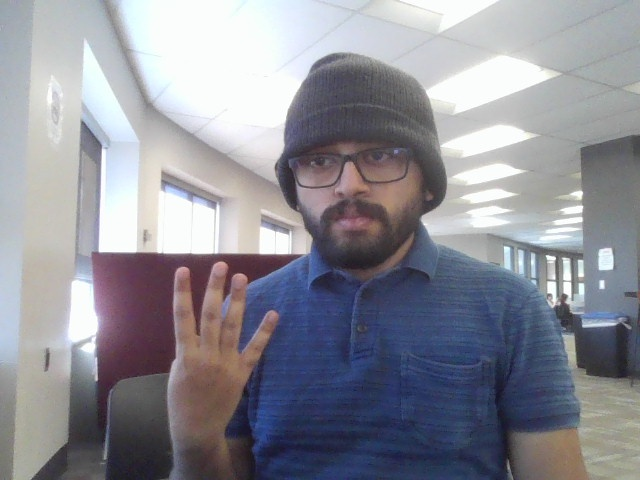start: (159, 260, 282, 451)
